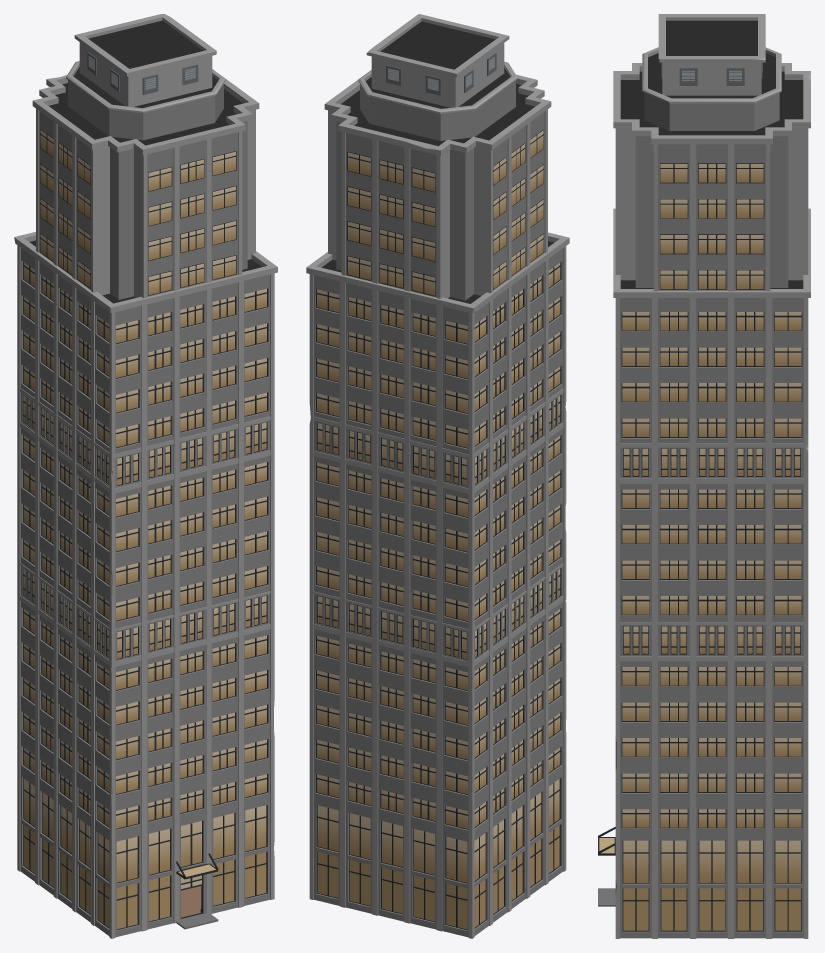
File: SM_Buildings_Skyscraper_02.fbx
3 views of the same model, side by side, from view 1: azimuth 30°, elevation 25°; view 2: azimuth 150°, elevation 25°; view 3: azimuth 270°, elevation 25° (orthographic). The views are drawn at different scales.
Parts seen in each view (by area): view 1: SM_Buildings_Skyscraper_02; view 2: SM_Buildings_Skyscraper_02; view 3: SM_Buildings_Skyscraper_02.
Part boxes in pixels (x1,y1,x2,y2): SM_Buildings_Skyscraper_02: [14, 14, 277, 938]; SM_Buildings_Skyscraper_02: [306, 14, 569, 938]; SM_Buildings_Skyscraper_02: [598, 14, 810, 938].
Size of the model in its own units: 15.77 by 75.83 by 16.98.
